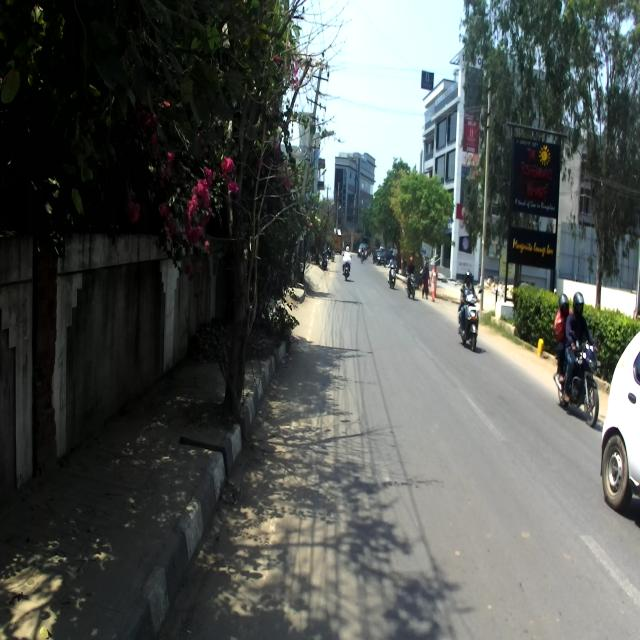tree ahead at: (200, 202, 261, 419)
